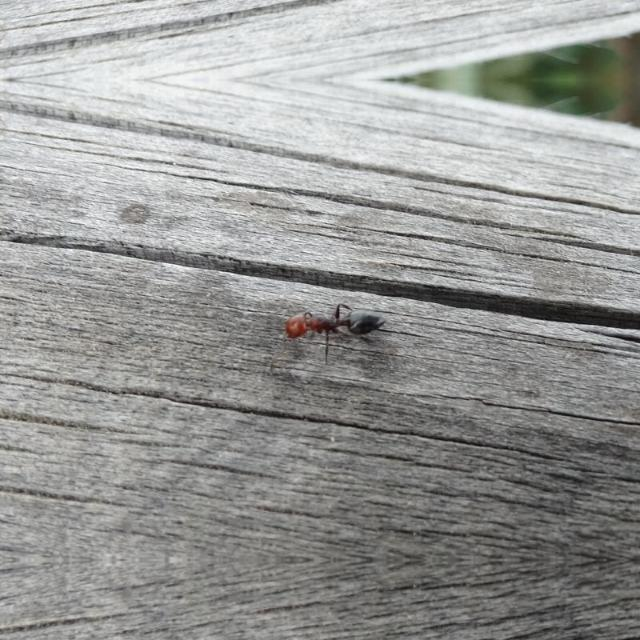Crematogaster: (272, 295, 384, 355)
